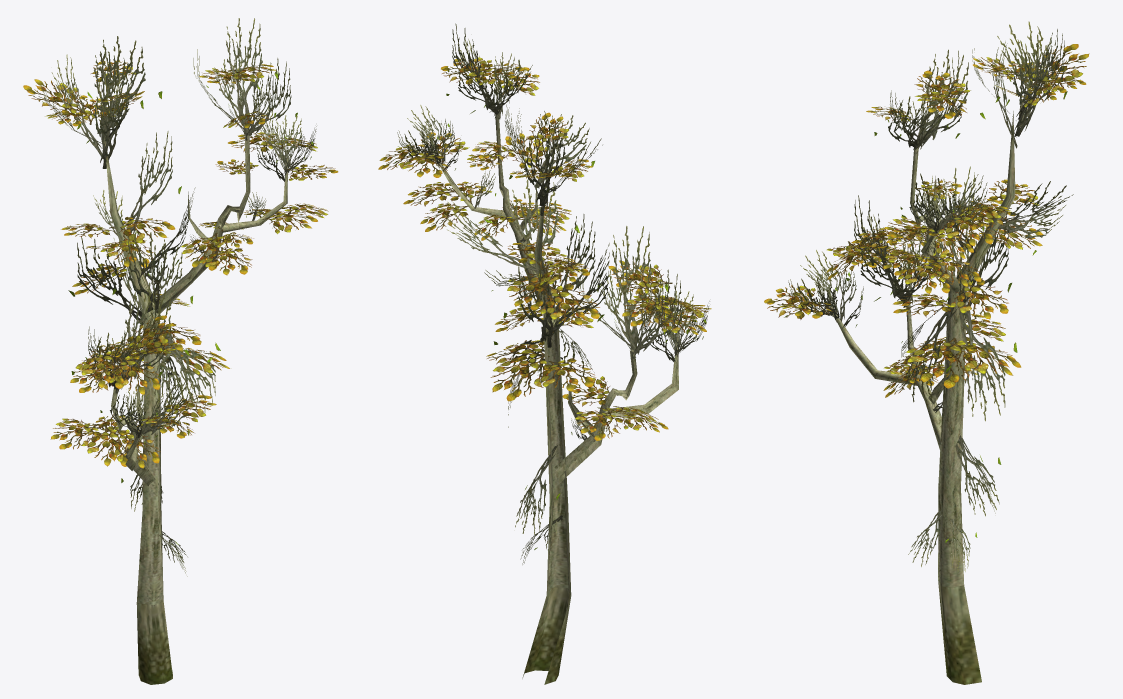
The model's file is S_Tree_Yellow038_1.FBX.
3 renders of one model, left to right at view 1: azimuth 30°, elevation 25°; view 2: azimuth 150°, elevation 25°; view 3: azimuth 270°, elevation 25°, orthographic. The views are drawn at different scales.
Visible parts, largest first — view 1: S_Tree_Yellow038_1; view 2: S_Tree_Yellow038_1; view 3: S_Tree_Yellow038_1.
Part boxes in pixels (left/top/right/bottom): S_Tree_Yellow038_1: left=23, top=18, right=338, bottom=684; S_Tree_Yellow038_1: left=378, top=23, right=711, bottom=684; S_Tree_Yellow038_1: left=764, top=21, right=1089, bottom=684.
Bounding box in the file's own units: 478 × 465 × 970.
